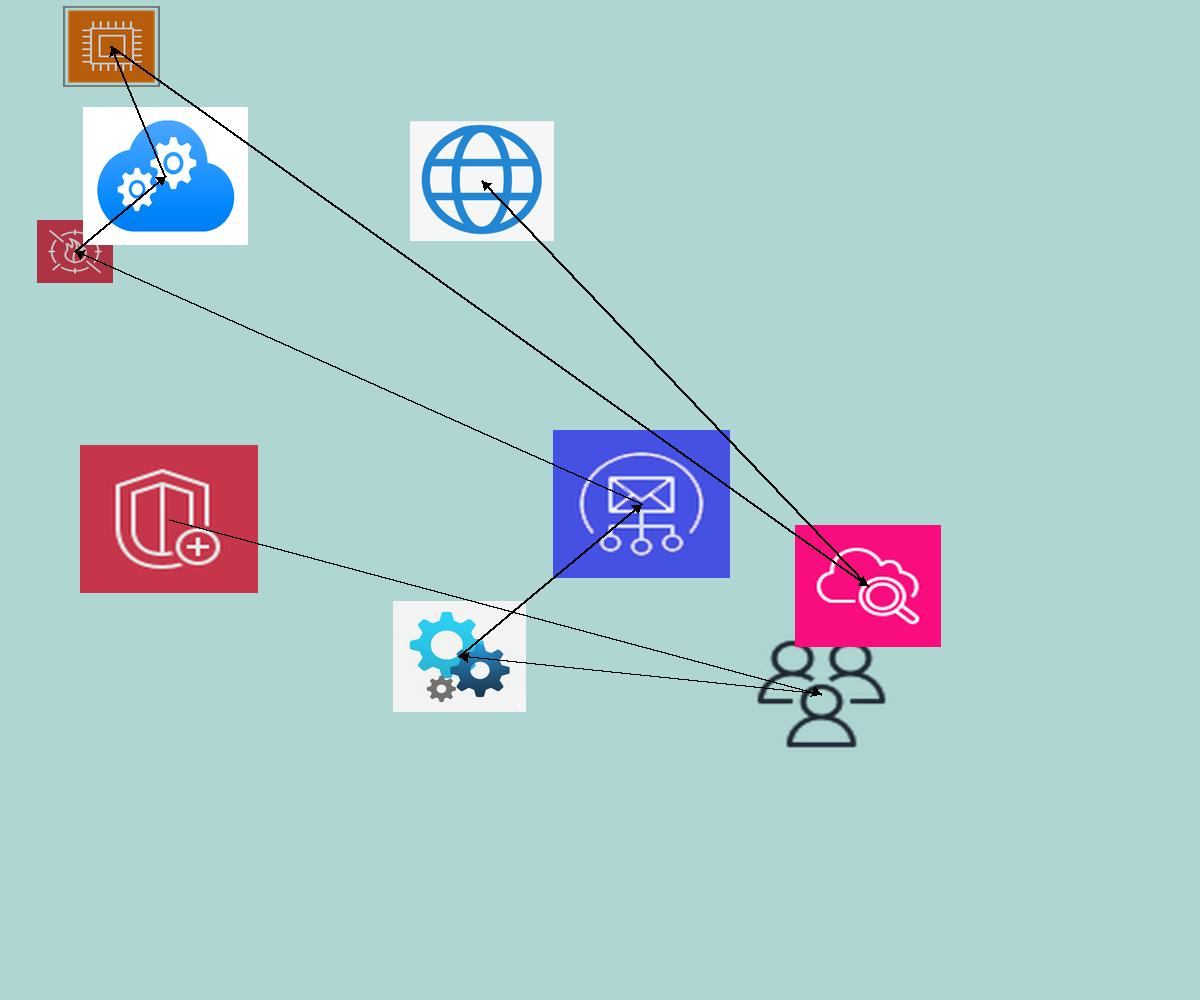AWS-Category_Compute: (63, 6, 160, 87)
AWS-CloudWatch: (795, 525, 941, 647)
AWS-Res_Users: (752, 636, 891, 752)
AWS-Shield: (80, 445, 258, 593)
AWS-Simple-Email-Service: (553, 430, 730, 578)
AWS-WAF: (37, 220, 113, 283)
Azure_api: (393, 601, 526, 712)
Azure_cloud_services: (83, 107, 248, 245)
Azure_http: (410, 121, 554, 241)
